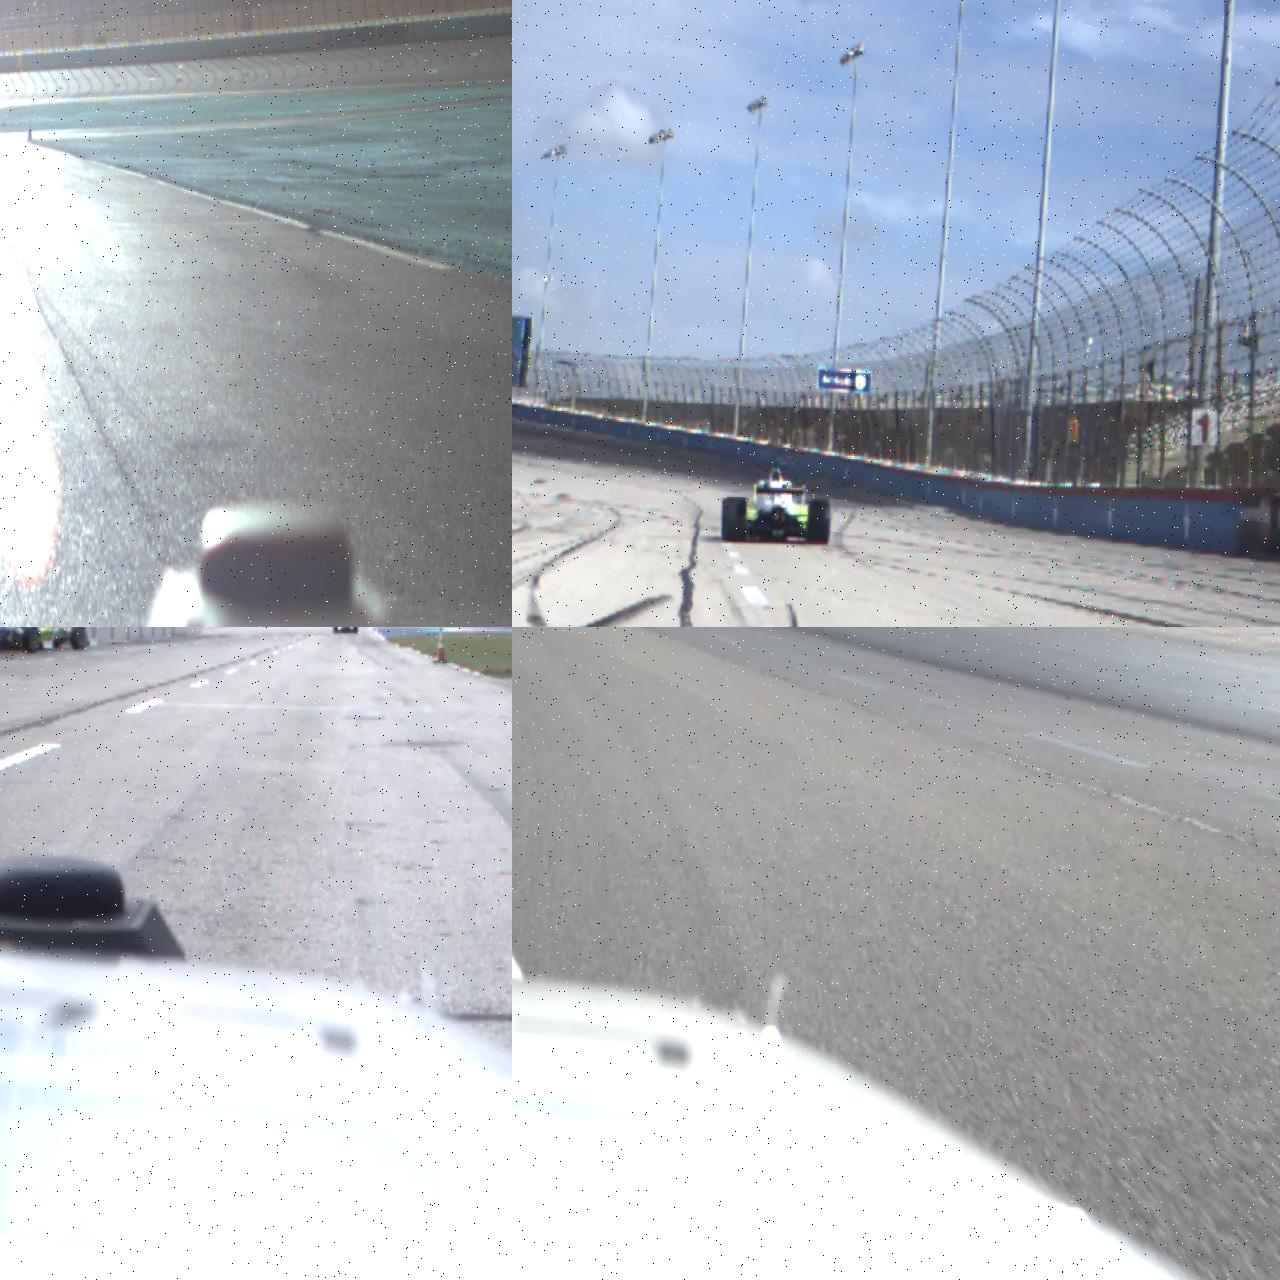AV: (721, 462, 833, 547), (333, 627, 359, 634)
Wheel: (806, 499, 832, 545), (722, 497, 748, 543), (23, 627, 41, 653), (72, 627, 87, 651), (333, 627, 338, 633), (354, 627, 358, 633)
